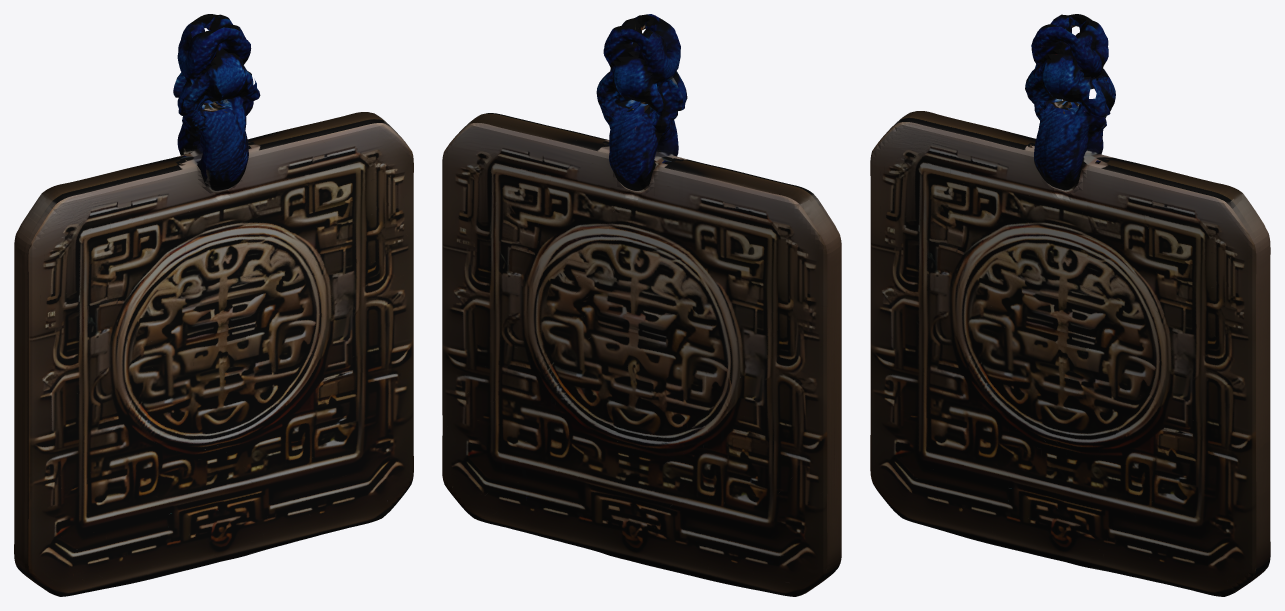
File: prop.glb
The picture shows the model from 3 angles, left to right: view 1: azimuth 30°, elevation 25°; view 2: azimuth 150°, elevation 25°; view 3: azimuth 330°, elevation 25°; orthographic projection.
Visible parts, largest first — view 1: geometry_0; view 2: geometry_0; view 3: geometry_0.
Boxes of the visible parts, x1,y1,x2,y2 form: geometry_0: [14, 14, 413, 596]; geometry_0: [442, 14, 841, 596]; geometry_0: [870, 14, 1270, 596].
Size of the model in its own units: 1.48 by 1.95 by 0.2675.
Materials: 1 (1 with a texture image).
